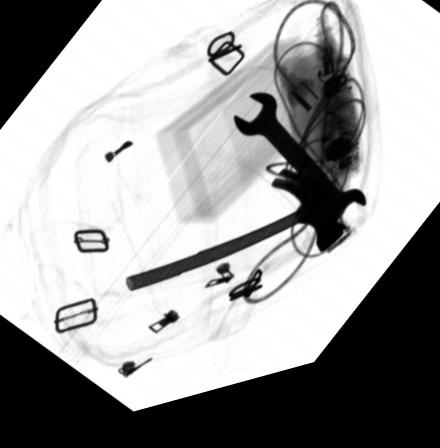Hammer: (124, 182, 345, 299)
Wrench: (232, 107, 364, 247)
